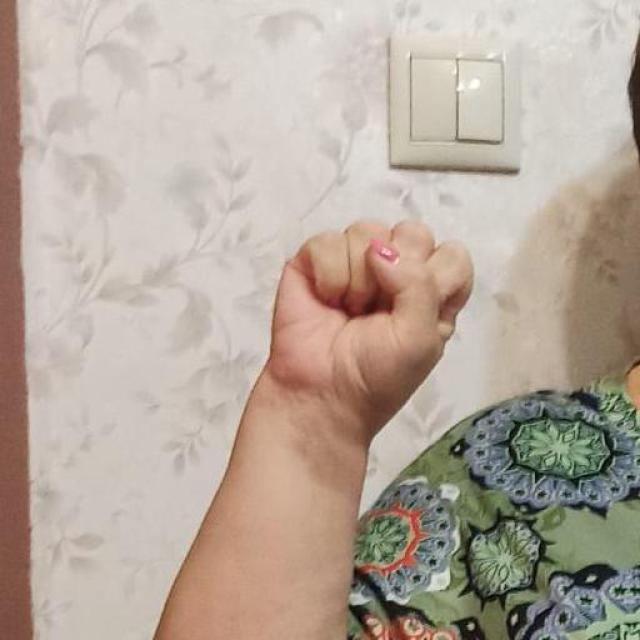hand: (264, 216, 475, 444)
